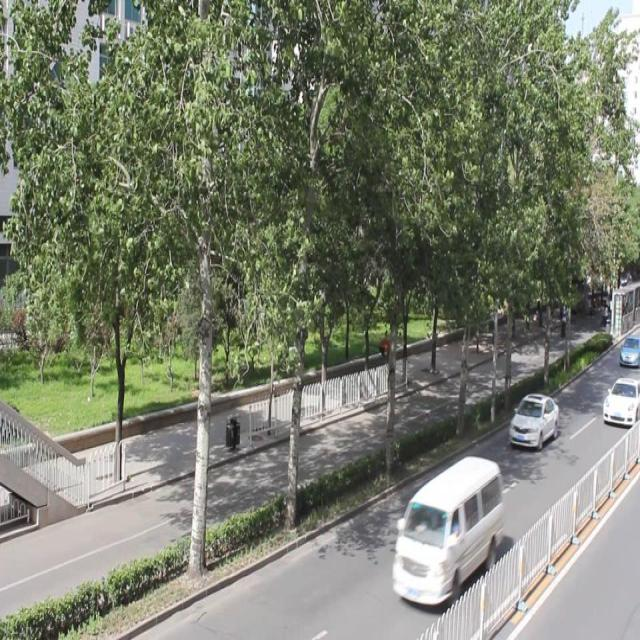car: (508, 392, 556, 450), (602, 375, 640, 426)
truck: (392, 458, 500, 605)
